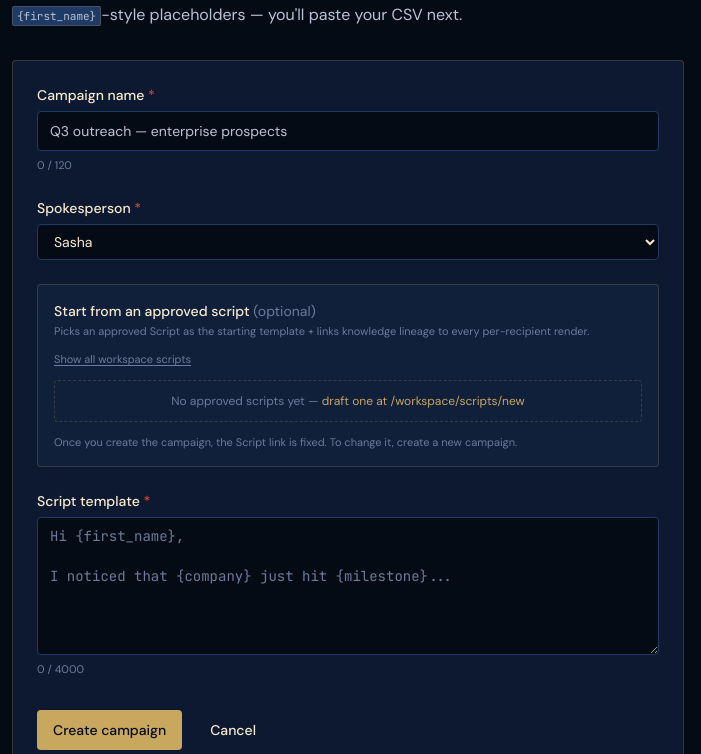
CampaignNewRoute › shows inline name validation error when name is empty on submit
The width and height of the screenshot is (701, 754).
(page scrolled)
Step 1. Click the button with test id "campaign-create-submit" → (110, 730), box [37,710,182,750]
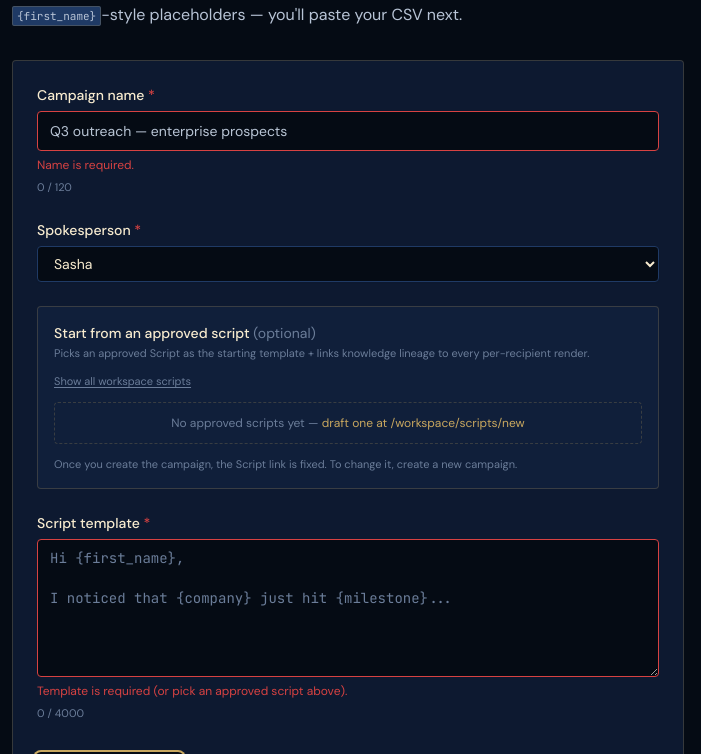
Expected: the text "Name is required." is shown, [37,157,134,173]
